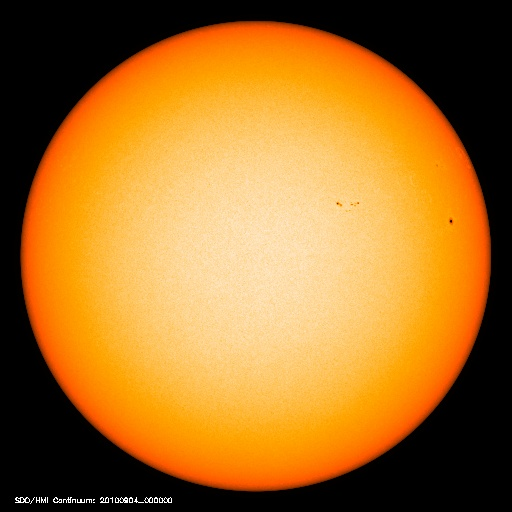sunspot: (327, 190, 367, 218), (436, 208, 466, 234), (426, 152, 449, 176)
